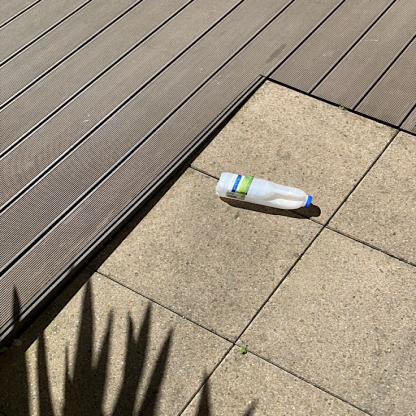trash: (211, 169, 317, 216)
